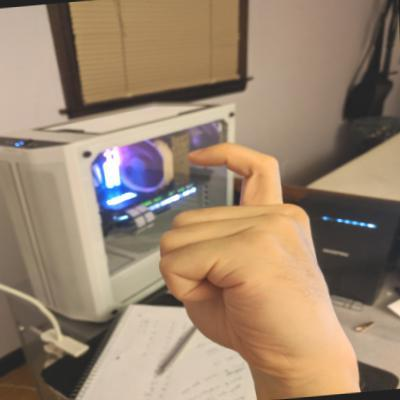hand: (146, 130, 366, 382)
